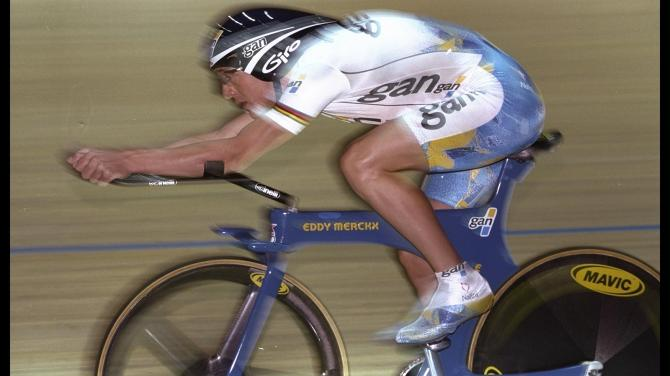with_helmet: (199, 3, 334, 105)
